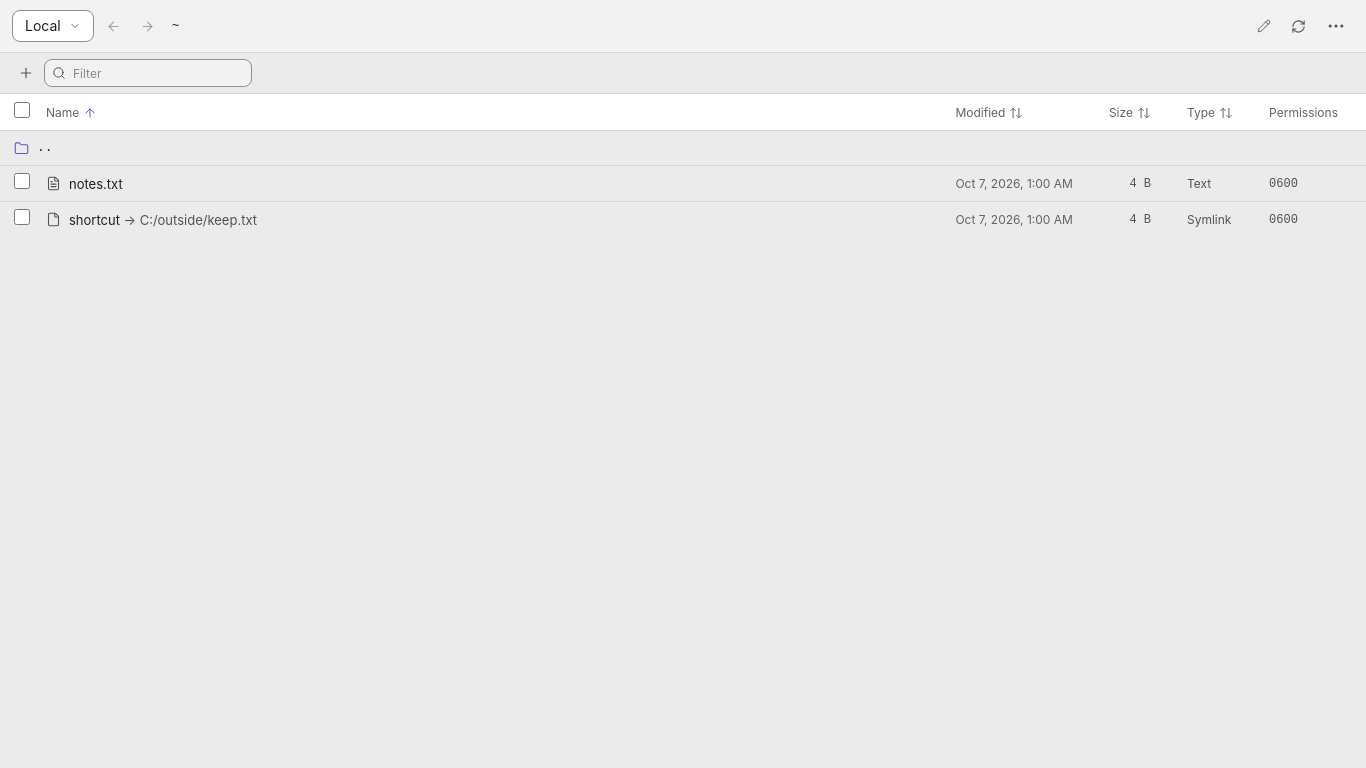
Test case: local entry actions through the shared pane › deletes multiple local entries including a link and reloads without opening the remote queue
Click the button "notes.txt" at coordinates (96, 184), box [46,174,939,194]
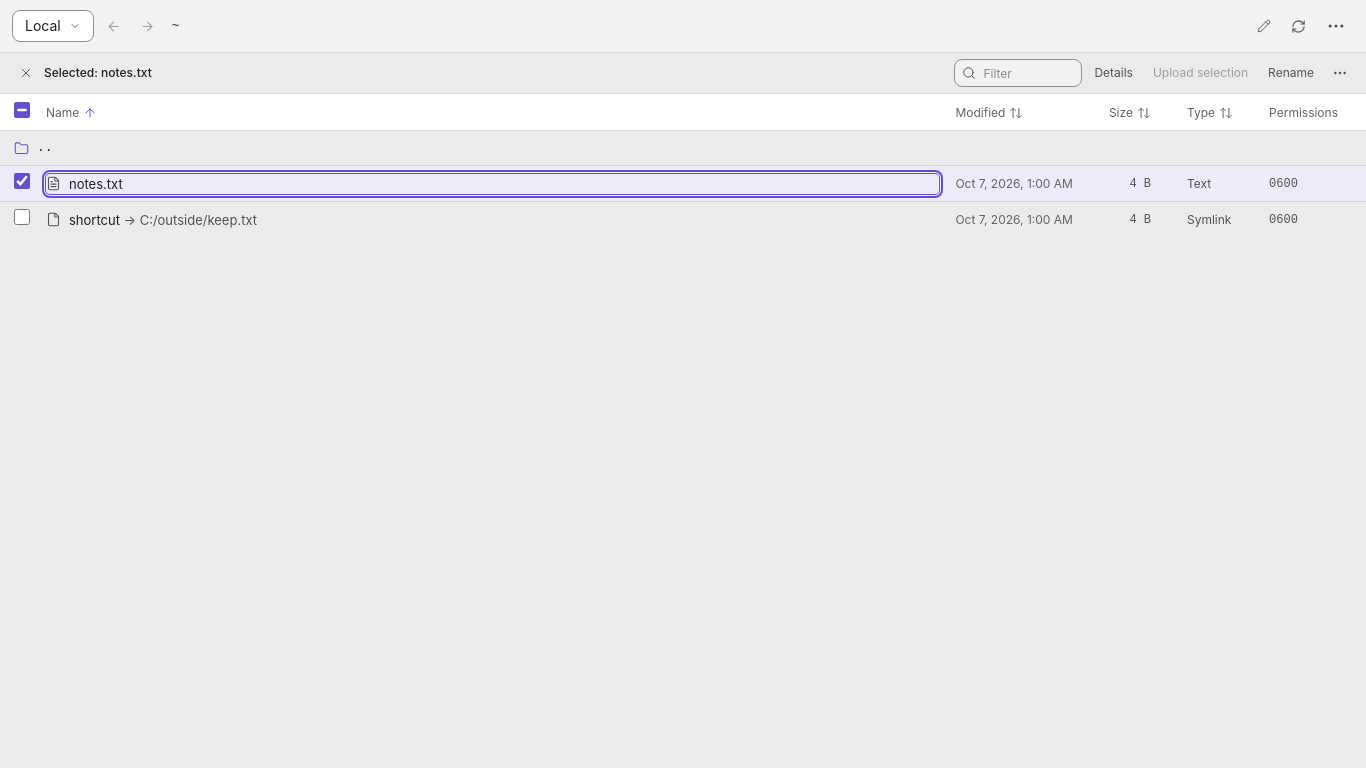
Click the button "shortcut → C:/outside/keep.txt" at coordinates (94, 220), box [46,210,939,230]
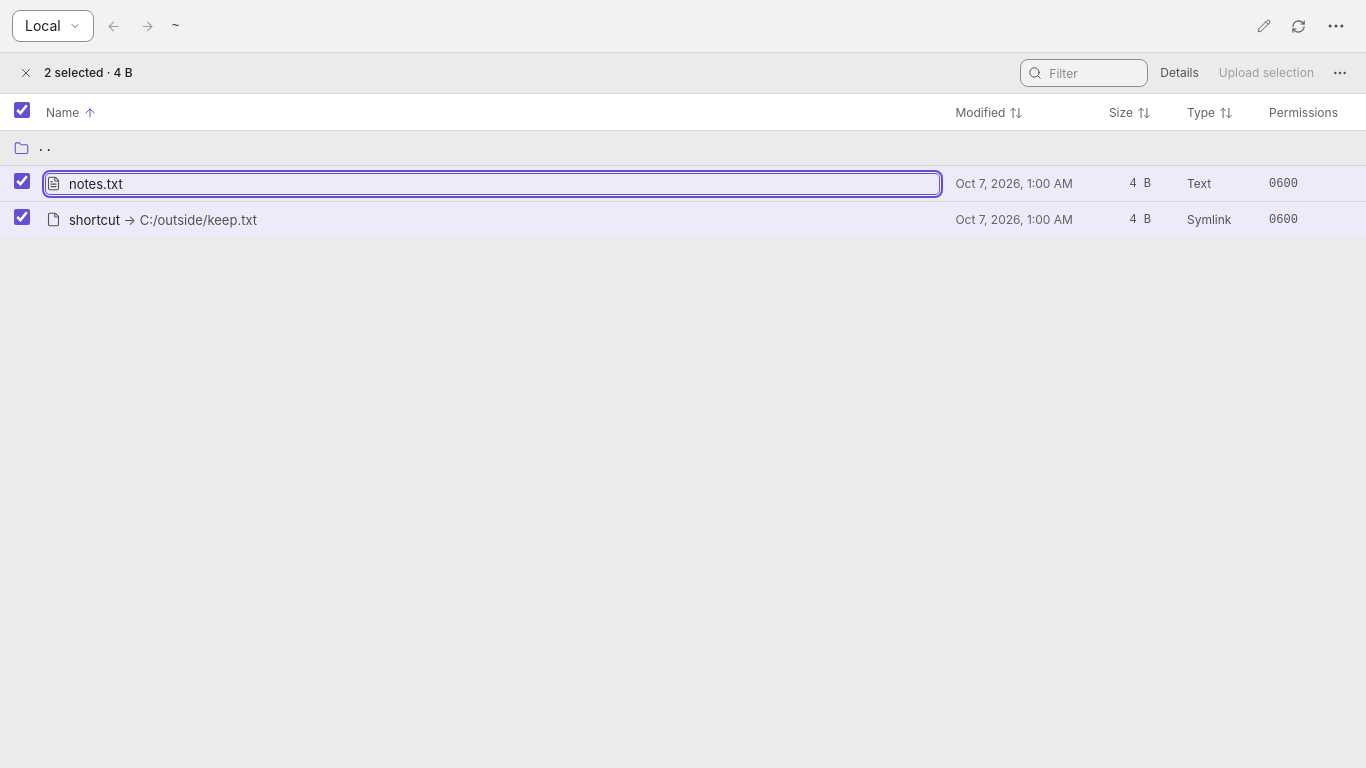
Click the button named "Actions for 2 selected items" at coordinates (1340, 73), box [1326,59,1354,87]
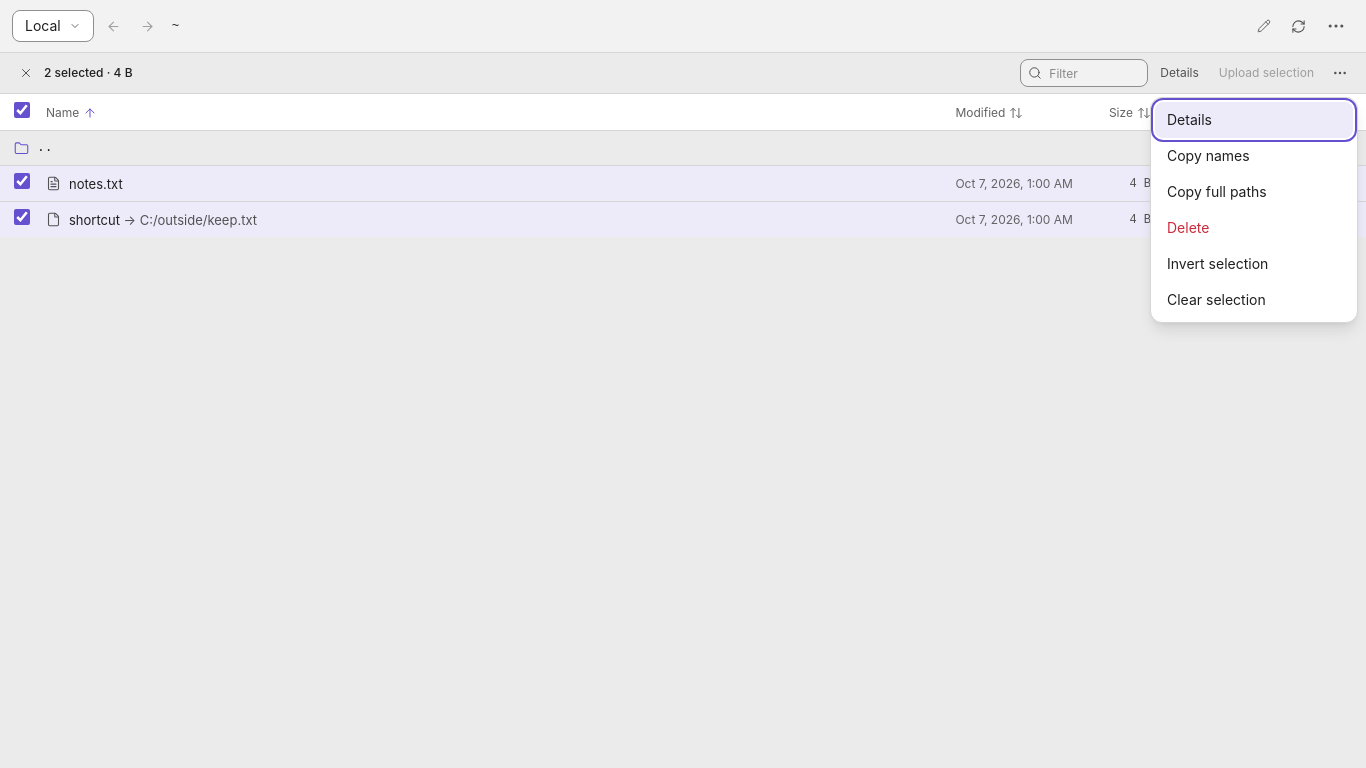
Click the menu item "Delete" at coordinates (1254, 228), box [1155,210,1353,246]
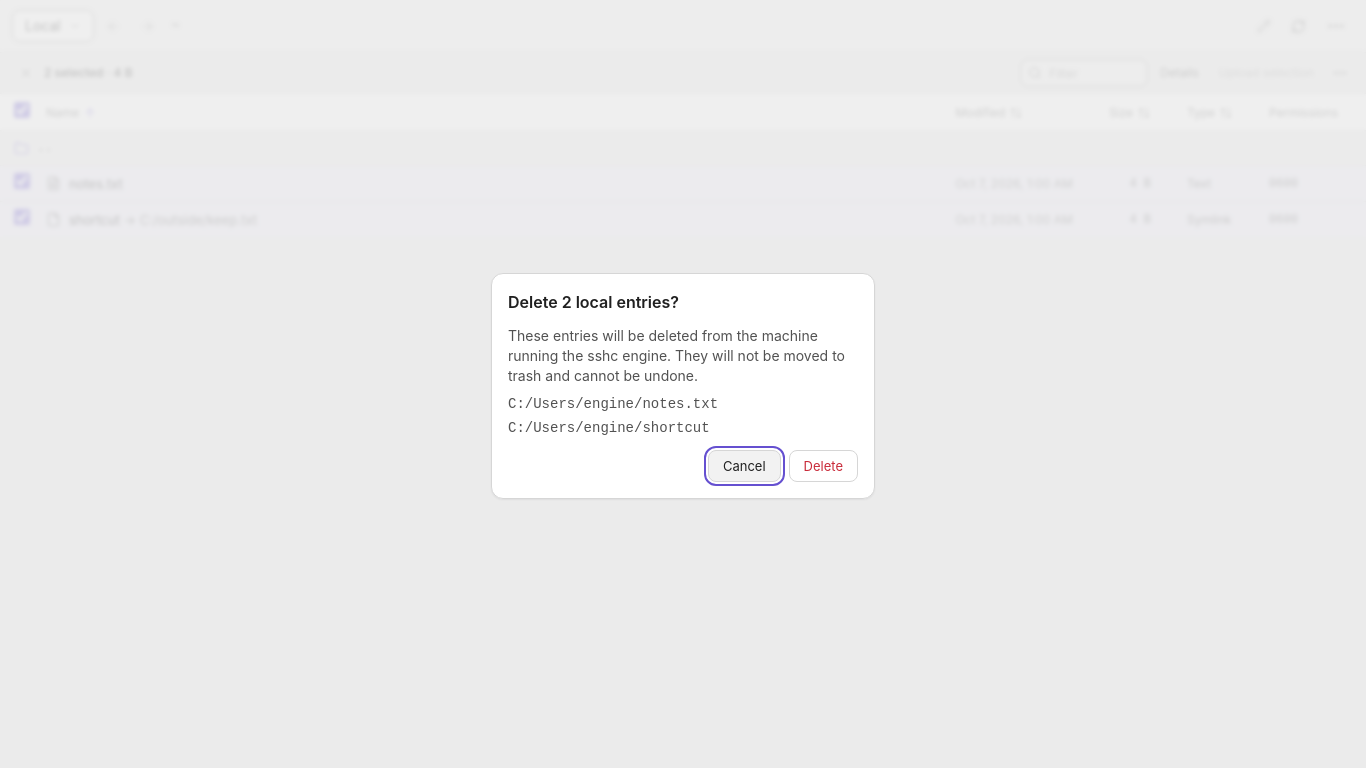
Result: the dialog "Delete 2 local entries?" shows "C:/Users/engine/shortcut" at [508,420,710,436]
Click the button "Delete" at coordinates (823, 466), box [789,450,858,482]
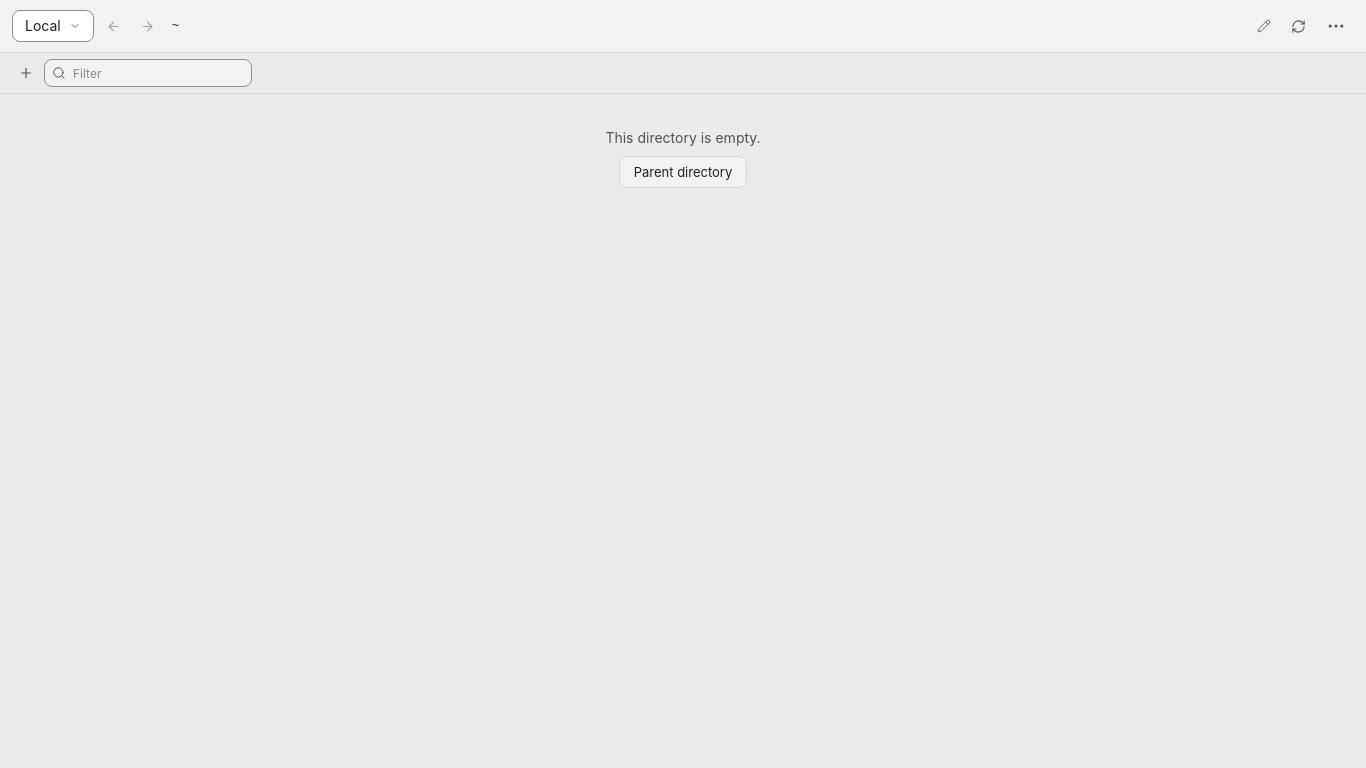
Result: the dialog is gone
Result: the button "notes.txt" is gone
